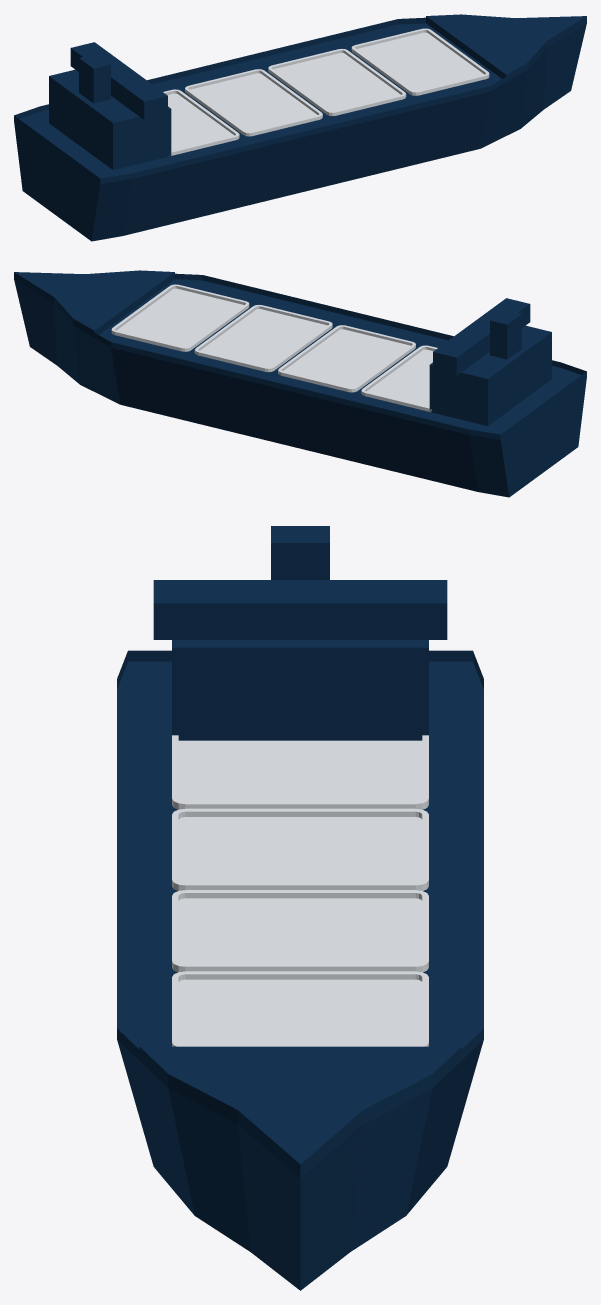
File: vessel-hold-04.glb
3 views of the same model, one above another, from view 1: azimuth 30°, elevation 25°; view 2: azimuth 150°, elevation 25°; view 3: azimuth 270°, elevation 25° (orthographic). The views are drawn at different scales.
Visible parts, largest first — view 1: hull, superstructure, detail_forecastle, detail_bulwark, hold_01, hold_03, hold_02, hold_04, detail_funnel; view 2: hull, superstructure, detail_forecastle, detail_bulwark, hold_01, hold_03, hold_02, hold_04, detail_funnel; view 3: hull, superstructure, detail_forecastle, hold_02, hold_03, hold_01, hold_04, detail_bulwark, detail_funnel.
Part boxes in pixels (x1,y1,x2,y2): hull: (14, 23, 586, 241); superstructure: (49, 42, 171, 169); detail_forecastle: (426, 14, 586, 81); detail_bulwark: (14, 17, 586, 183); hold_01: (351, 28, 489, 95); hold_03: (185, 69, 322, 136); hold_02: (268, 49, 406, 116); hold_04: (163, 89, 239, 155); detail_funnel: (79, 53, 110, 103); hull: (14, 279, 586, 497); superstructure: (429, 298, 551, 425); detail_forecastle: (14, 270, 174, 337); detail_bulwark: (14, 273, 586, 439); hold_01: (111, 284, 249, 351); hold_03: (278, 325, 415, 392); hold_02: (194, 305, 332, 372); hold_04: (361, 345, 437, 411); detail_funnel: (490, 309, 521, 359); hull: (117, 661, 483, 1290); superstructure: (153, 580, 447, 740); detail_forecastle: (139, 1046, 461, 1176); hold_02: (172, 890, 428, 972); hold_03: (172, 808, 428, 890); hold_01: (172, 971, 428, 1046); hold_04: (172, 735, 428, 809); detail_bulwark: (117, 650, 483, 1178); detail_funnel: (271, 526, 329, 579).
Size of the model in its own units: 10 by 2.63 by 3.
